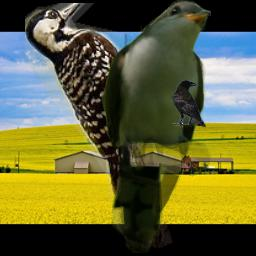Crow: (172, 80, 206, 128)
Cuckoo: (102, 0, 211, 253)
Woodpecker: (25, 3, 173, 252)
